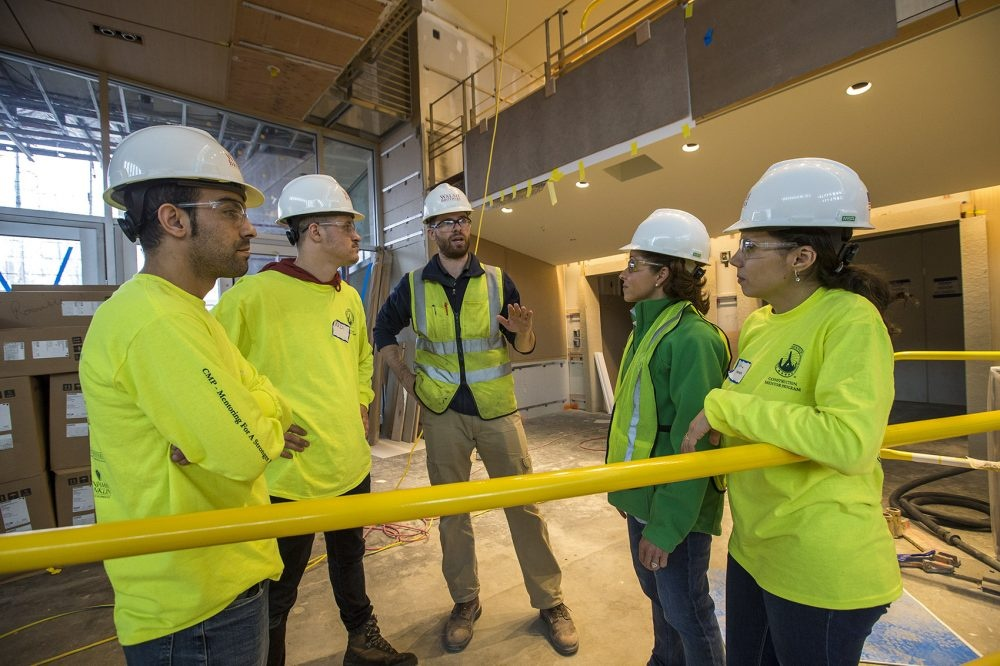white: (108, 125, 254, 282), (732, 155, 869, 299), (623, 210, 711, 309), (275, 176, 360, 271), (423, 184, 472, 259)
